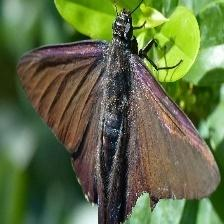butterfly: (17, 11, 221, 224)
